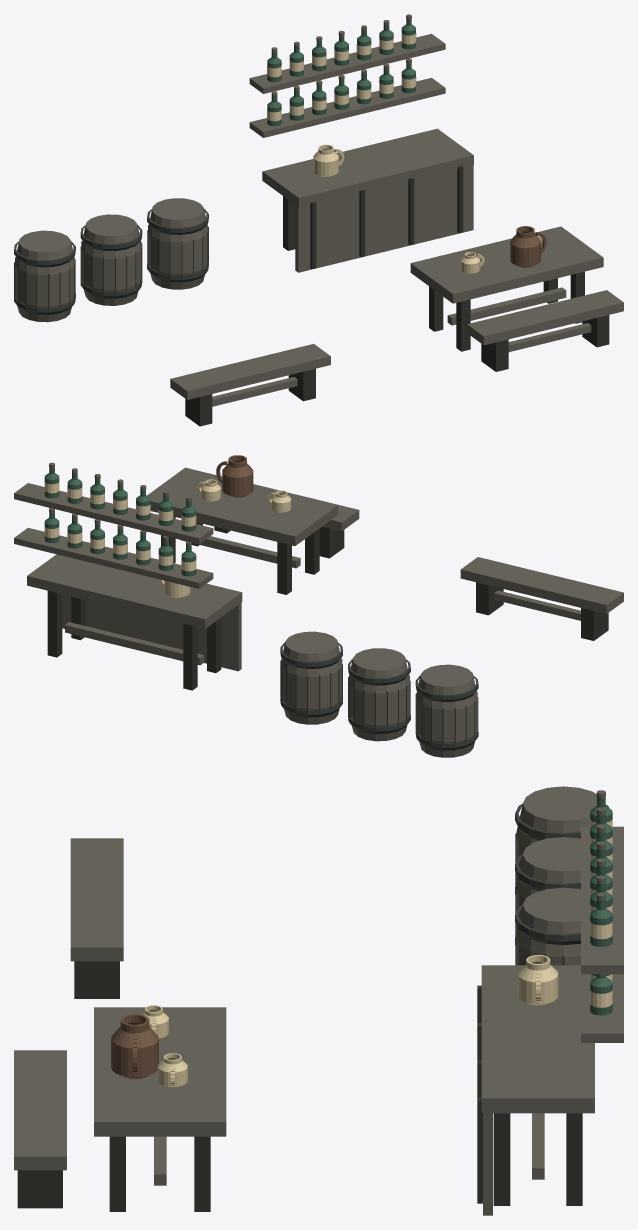
Rendered from village_copperkettle_artifacts.glb.
3 views of the same model, one above another, from view 1: azimuth 30°, elevation 25°; view 2: azimuth 150°, elevation 25°; view 3: azimuth 270°, elevation 25° (orthographic). The views are drawn at different scales.
Parts seen in each view (by area): view 1: village_copperkettle_artifacts; view 2: village_copperkettle_artifacts; view 3: village_copperkettle_artifacts.
Boxes of the visible parts, x1,y1,x2,y2 form: village_copperkettle_artifacts: [14, 14, 623, 426]; village_copperkettle_artifacts: [14, 455, 623, 757]; village_copperkettle_artifacts: [14, 786, 623, 1215].
Size of the model in its own units: 6.21 by 2.66 by 4.84.
